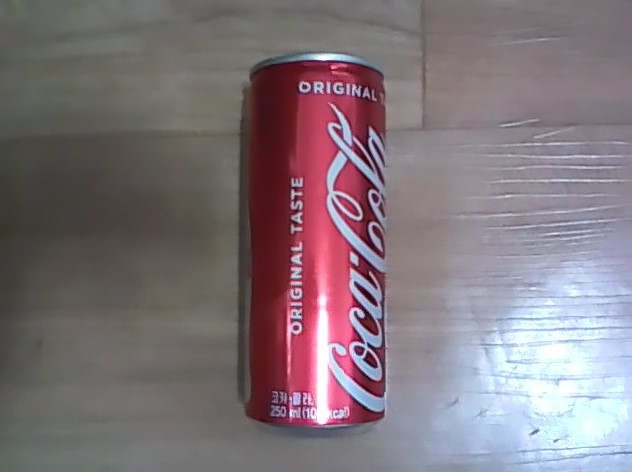Can: (236, 46, 394, 432)
